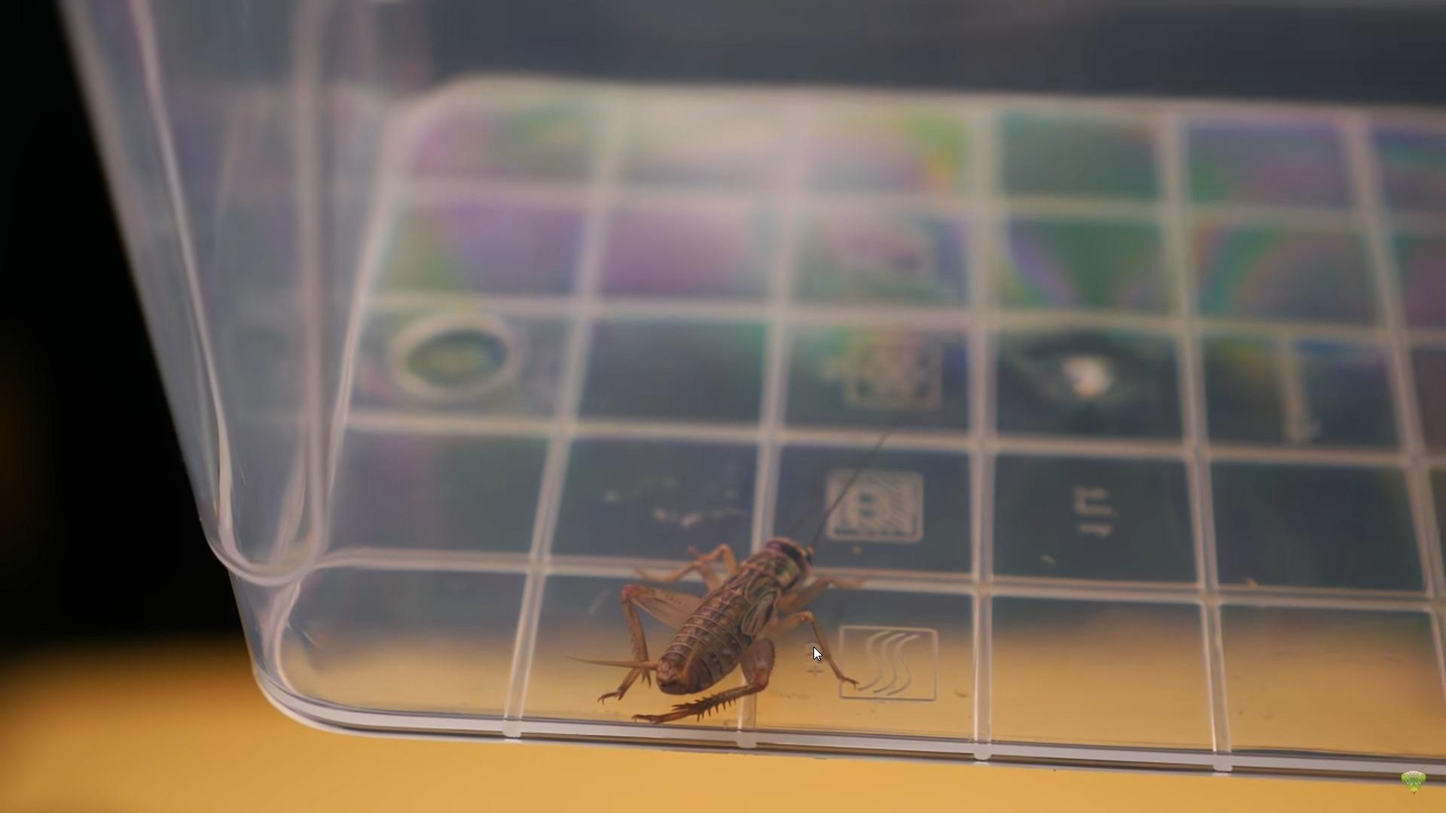cockroach: (573, 505, 869, 729)
